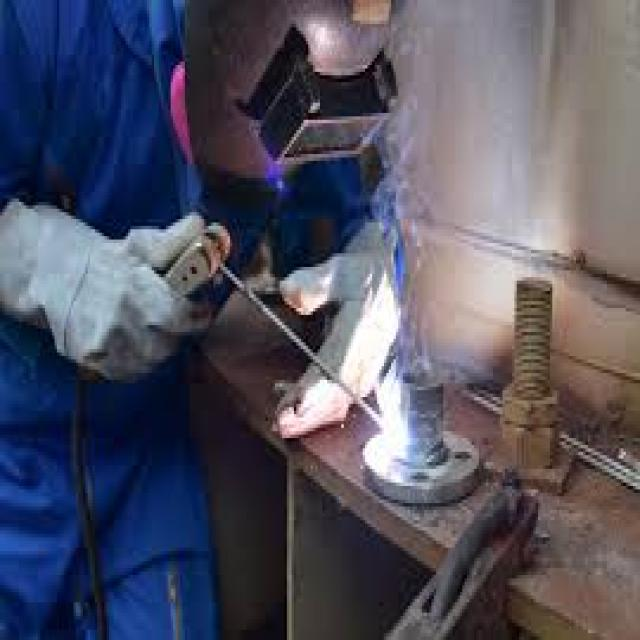welding: (382, 418, 406, 459)
